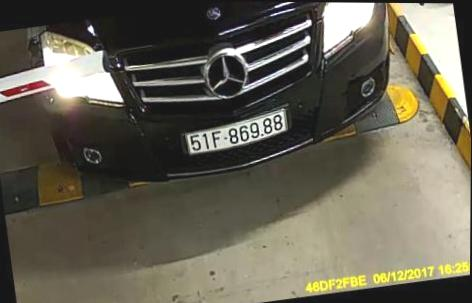License_Plate: (172, 107, 302, 157)
